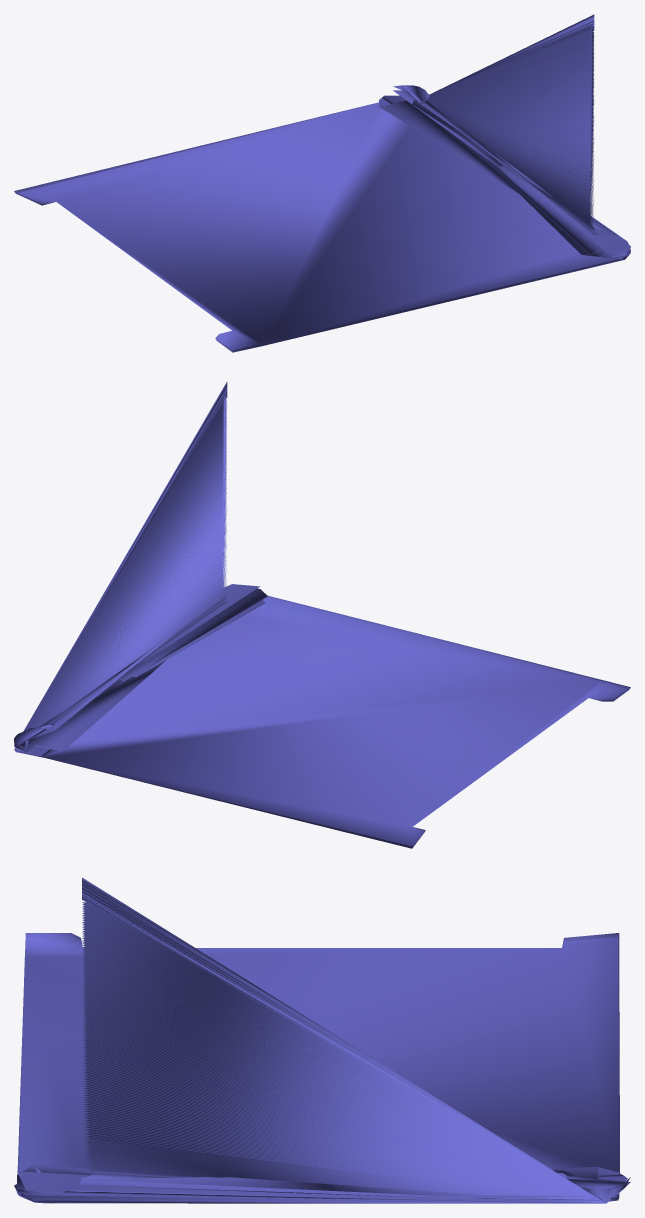
File: model.progressive.glb
3 views of the same model, one above another, from view 1: azimuth 30°, elevation 25°; view 2: azimuth 150°, elevation 25°; view 3: azimuth 270°, elevation 25° (orthographic). The views are drawn at different scales.
Visible parts, largest first — view 1: mesh_input; view 2: mesh_input; view 3: mesh_input.
Boxes of the visible parts, x1,y1,x2,y2 form: mesh_input: [14, 14, 630, 352]; mesh_input: [14, 381, 630, 848]; mesh_input: [14, 877, 630, 1203].
Size of the model in its own units: 1.26 by 0.6914 by 1.22.
1 material, 1 textured.
